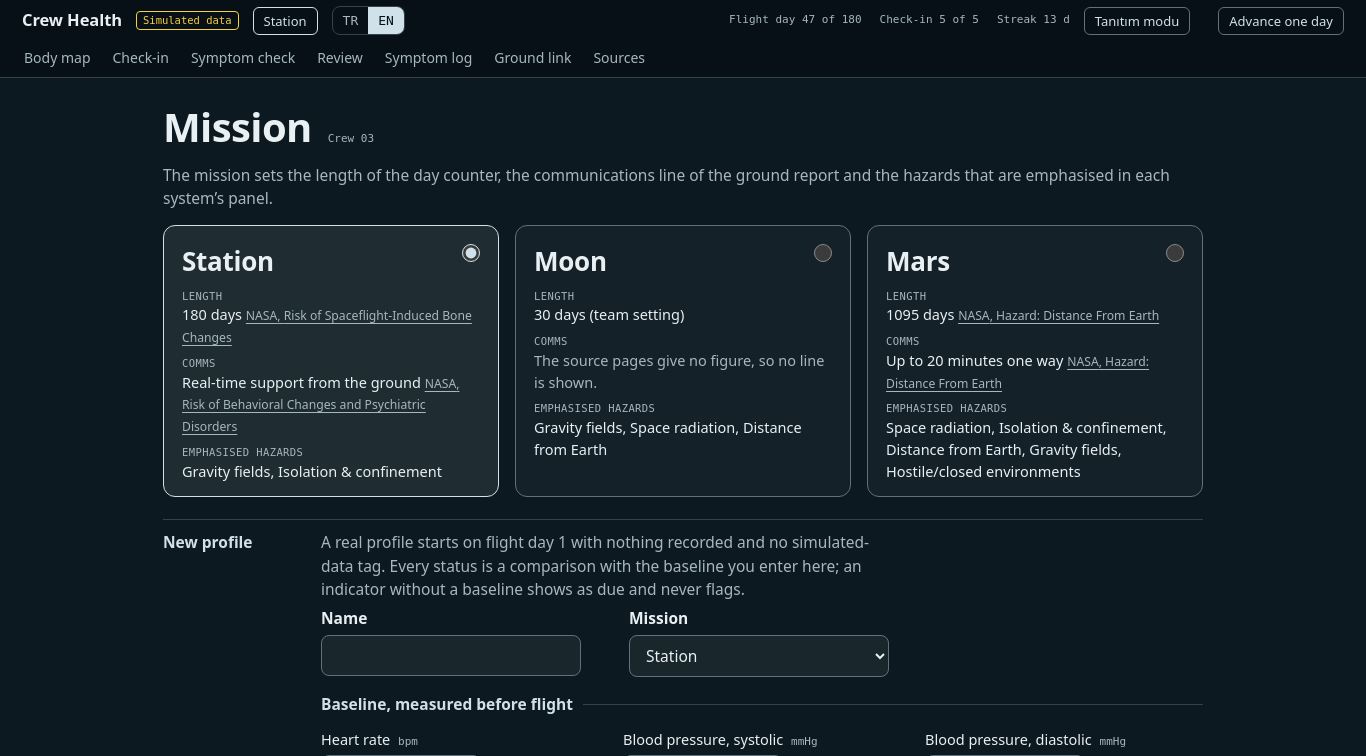
Test case: a new profile › can start on another mission
The width and height of the screenshot is (1366, 756).
Step 1. Type "Ada" into the field labelled "Name" → (451, 656), box x1=321 y1=635 x2=581 y2=676
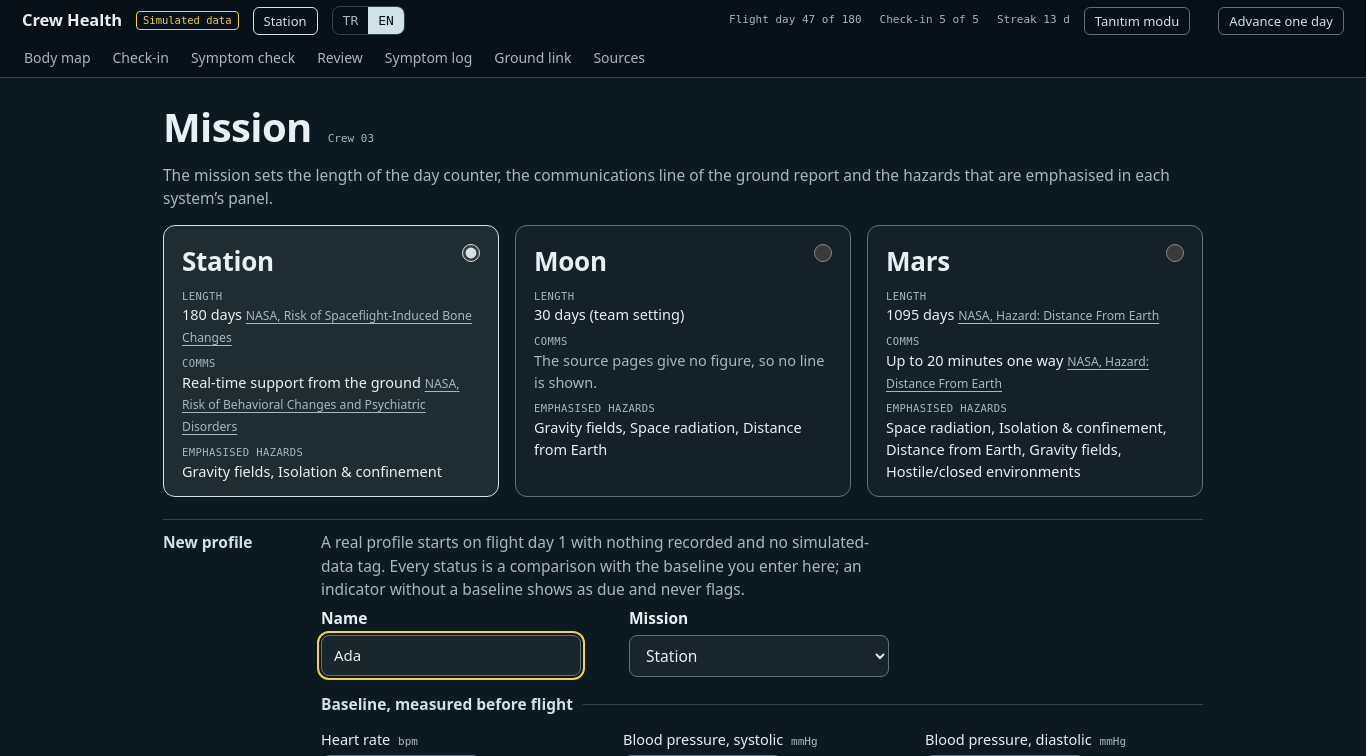
Step 2. Select "Mars" in the dropdown labelled "Mission" → (759, 656), box x1=629 y1=635 x2=889 y2=677
(page scrolled)
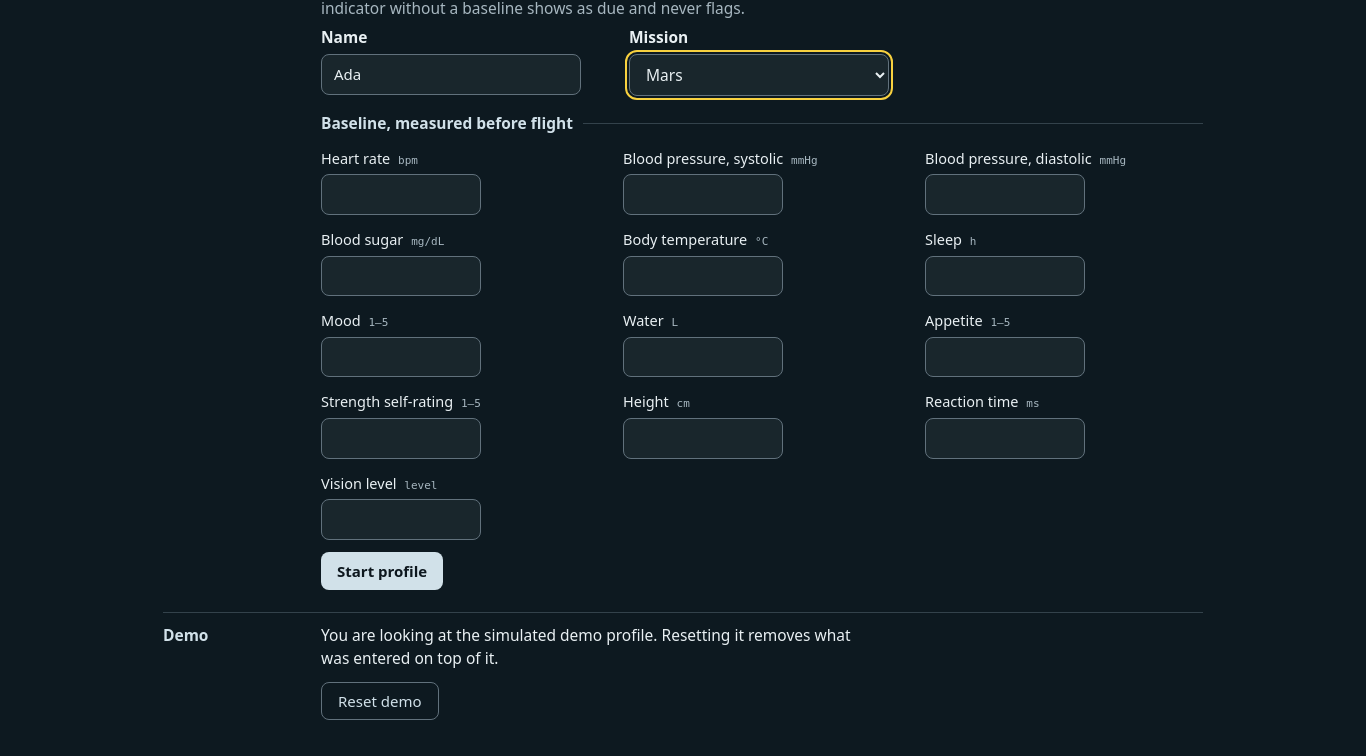
Step 3. Click the button "Start profile" → click(382, 571), box x1=321 y1=552 x2=443 y2=590
(page scrolled)
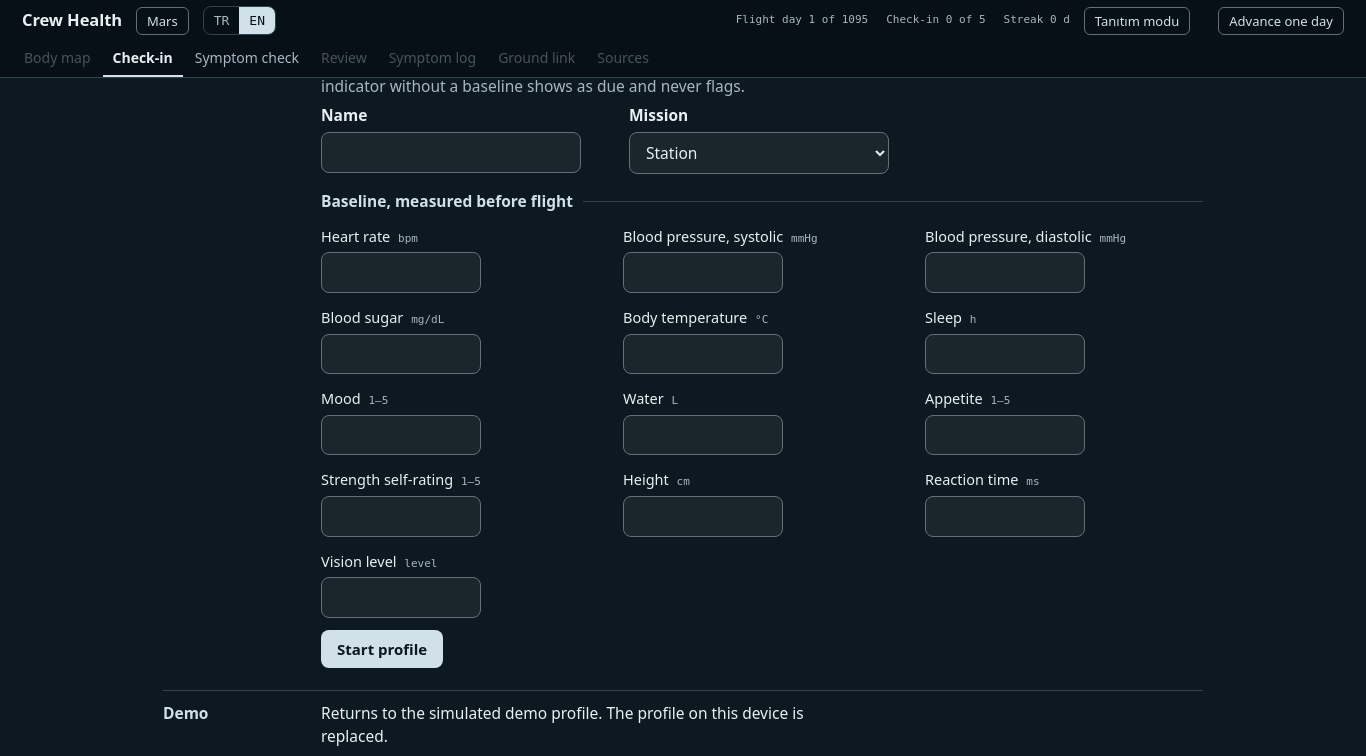
Expected: the text "Flight day 1 of 1095" is shown, x1=736 y1=12 x2=868 y2=29
